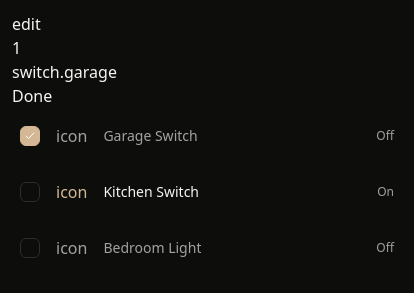
Test: Device Selection Flow › clicking devices in edit mode › should allow selecting all devices
Click the button "icon Kitchen Switch On". click: [72, 192]
box: [12,164,402,220]
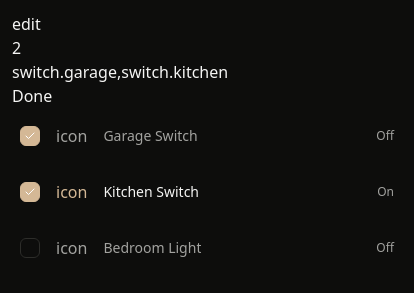
Click the button "icon Bedroom Light Off". click: [72, 248]
box: [12,220,402,276]
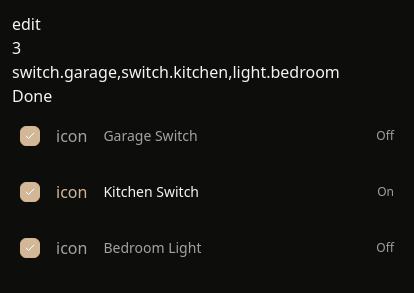
Check: the text with test id "count" reads "3", box [12,37,21,59]
